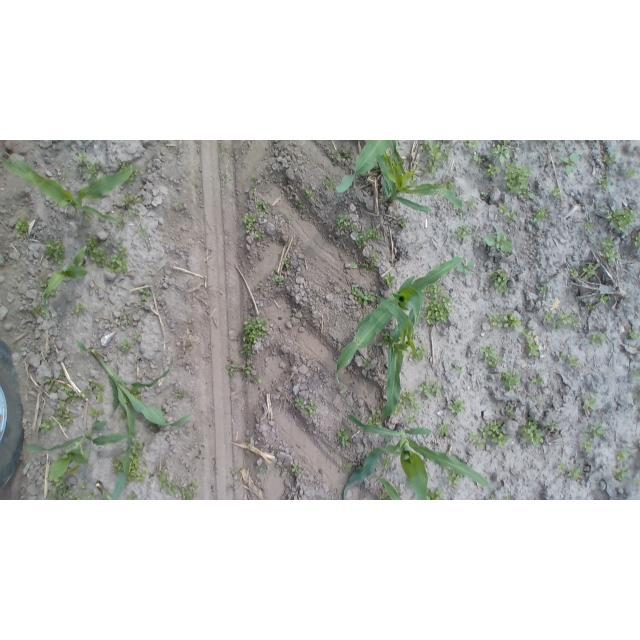Maize: (78, 338, 192, 497), (339, 253, 465, 388), (339, 418, 494, 500), (1, 155, 136, 225), (24, 419, 133, 487), (365, 144, 465, 217), (376, 296, 418, 416), (41, 242, 91, 320), (335, 140, 395, 196), (377, 477, 403, 500), (95, 479, 115, 500)
Weeds: (505, 163, 536, 200), (425, 282, 451, 324), (244, 316, 269, 356), (421, 142, 448, 174), (520, 417, 545, 447), (606, 209, 637, 233), (128, 444, 145, 483), (109, 240, 128, 274), (54, 400, 75, 429), (485, 232, 514, 252), (88, 237, 107, 267), (47, 480, 75, 499), (45, 240, 66, 265), (523, 330, 541, 357), (482, 346, 503, 368), (352, 287, 376, 306), (602, 236, 619, 262), (500, 370, 520, 391), (159, 472, 178, 494), (61, 380, 78, 404), (491, 269, 508, 291), (562, 154, 579, 175), (493, 142, 510, 162), (585, 422, 607, 437), (91, 381, 106, 403), (402, 392, 420, 409), (419, 382, 438, 398), (490, 433, 510, 448), (501, 314, 521, 329), (448, 400, 467, 415), (182, 483, 198, 500), (533, 206, 550, 222), (44, 376, 59, 394), (122, 196, 142, 209), (279, 211, 296, 226), (487, 314, 504, 329), (338, 427, 351, 446), (613, 465, 629, 480), (628, 365, 640, 385), (559, 313, 576, 327), (457, 261, 475, 274), (463, 141, 484, 152), (41, 418, 56, 433), (427, 383, 442, 398), (602, 151, 618, 165), (589, 332, 605, 346), (360, 257, 377, 270), (87, 162, 100, 179), (379, 331, 390, 351), (243, 213, 255, 231), (356, 231, 370, 246), (17, 219, 28, 238), (323, 176, 337, 190), (582, 264, 595, 279), (624, 165, 637, 180), (337, 216, 352, 229), (226, 362, 238, 378), (294, 196, 310, 208), (595, 292, 611, 304), (428, 487, 444, 499), (81, 387, 92, 404), (216, 143, 230, 156), (447, 472, 461, 485), (486, 165, 500, 178), (568, 467, 582, 480), (253, 230, 268, 242), (582, 219, 594, 234), (456, 227, 468, 242), (383, 273, 395, 288), (415, 345, 426, 361), (631, 231, 640, 250), (333, 152, 346, 165), (480, 426, 493, 439), (370, 228, 383, 241), (370, 412, 382, 426), (585, 397, 596, 412), (543, 307, 553, 323), (130, 388, 142, 401), (582, 440, 594, 453), (33, 304, 46, 316), (128, 210, 142, 221), (556, 459, 566, 474), (74, 303, 86, 315), (113, 457, 122, 473), (258, 201, 269, 214), (295, 397, 306, 410), (497, 202, 508, 215), (122, 315, 136, 325), (304, 185, 314, 199), (552, 186, 563, 198), (291, 462, 302, 474), (257, 463, 268, 475), (616, 449, 628, 460), (76, 154, 88, 165), (141, 289, 152, 301), (568, 268, 581, 278), (532, 376, 545, 386), (126, 491, 140, 500), (121, 340, 132, 351), (628, 327, 638, 339), (506, 210, 516, 222), (306, 402, 316, 414), (476, 438, 486, 450), (89, 409, 101, 419), (474, 154, 487, 163), (445, 180, 455, 191), (438, 424, 448, 435), (175, 390, 185, 401), (371, 251, 381, 262), (453, 364, 464, 374), (569, 356, 579, 367), (384, 456, 393, 468), (405, 414, 417, 423), (225, 170, 233, 183), (466, 198, 476, 208), (599, 177, 609, 187), (138, 226, 148, 236), (479, 191, 489, 201), (244, 366, 255, 375), (350, 260, 361, 269), (540, 286, 549, 297), (256, 281, 265, 292), (57, 368, 65, 380), (549, 422, 559, 431), (470, 433, 479, 443), (343, 462, 353, 471), (363, 359, 372, 369), (134, 331, 143, 341), (252, 376, 262, 385), (39, 276, 48, 286), (115, 210, 125, 219), (76, 166, 84, 177), (487, 493, 499, 500), (80, 482, 89, 491), (132, 166, 141, 175), (101, 166, 110, 175), (631, 475, 640, 484), (398, 218, 406, 228), (126, 176, 134, 186), (73, 493, 84, 500), (586, 302, 595, 310), (84, 214, 92, 223), (273, 276, 283, 283), (86, 492, 96, 499), (119, 410, 126, 420), (283, 257, 290, 267), (504, 494, 515, 500), (248, 188, 256, 196), (120, 163, 129, 170), (231, 469, 238, 478), (560, 352, 567, 361), (59, 170, 66, 178), (551, 323, 559, 330), (95, 285, 102, 293), (119, 221, 126, 228), (417, 245, 424, 252), (245, 450, 251, 457), (395, 407, 401, 413), (251, 174, 257, 180), (274, 266, 278, 275), (178, 203, 183, 208), (638, 439, 640, 451), (588, 471, 594, 475)
